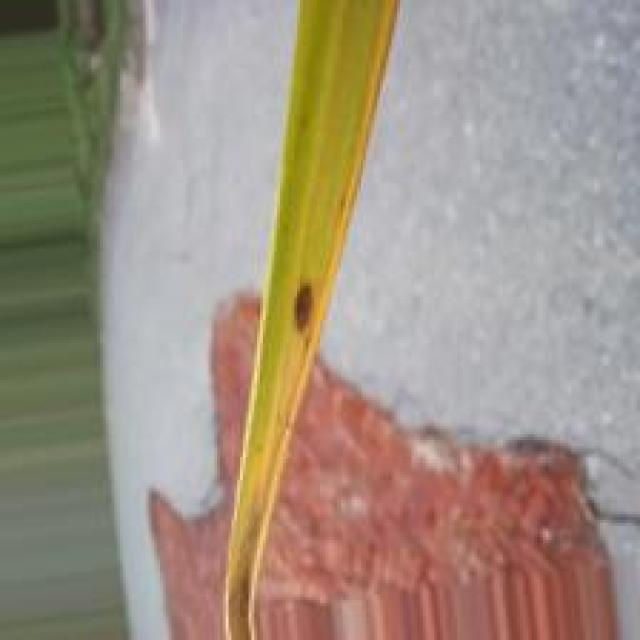Brown_Spot: (290, 274, 320, 343)
